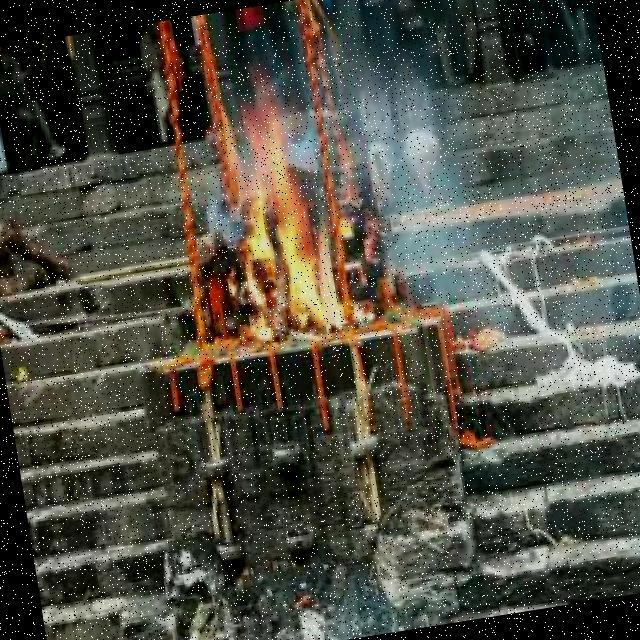Fire: (214, 92, 349, 343)
